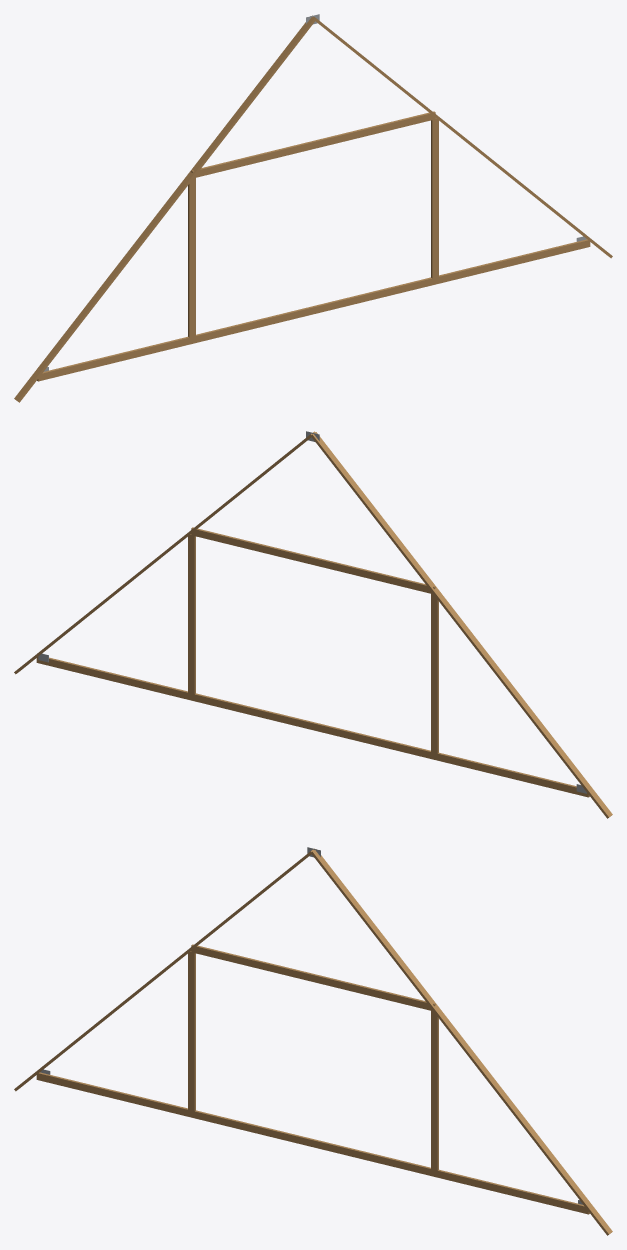
The model's file is structure.truss.attic_8.glb.
The picture shows the model from 3 angles, top to bottom: view 1: azimuth 30°, elevation 25°; view 2: azimuth 150°, elevation 25°; view 3: azimuth 330°, elevation 25°; orthographic projection.
Visible parts, largest first — view 1: truss__softwood; view 2: truss__softwood; view 3: truss__softwood.
Part boxes in pixels (left/top/right/bottom): truss__softwood: left=14, top=15, right=612, bottom=402; truss__softwood: left=14, top=431, right=612, bottom=818; truss__softwood: left=14, top=848, right=612, bottom=1235.
Size of the model in its own units: 8.62 by 4.33 by 0.097.
